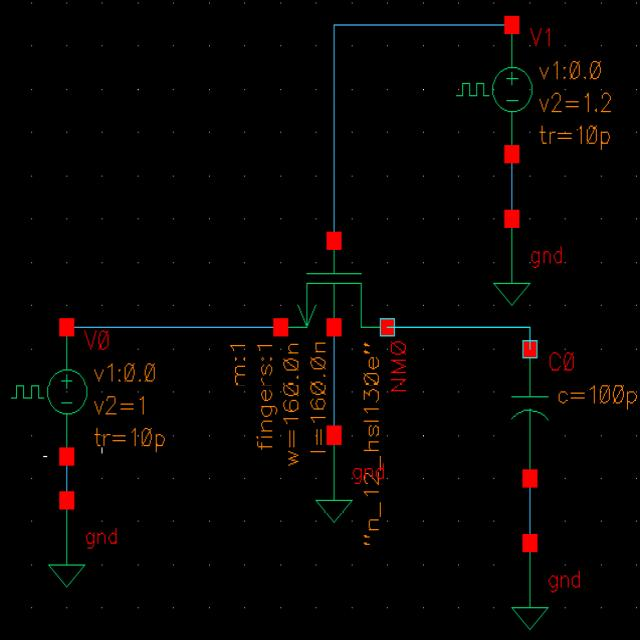cap: (500, 338, 555, 489)
nmos: (270, 228, 399, 340)
vdc: (456, 15, 538, 168), (14, 314, 94, 468)
